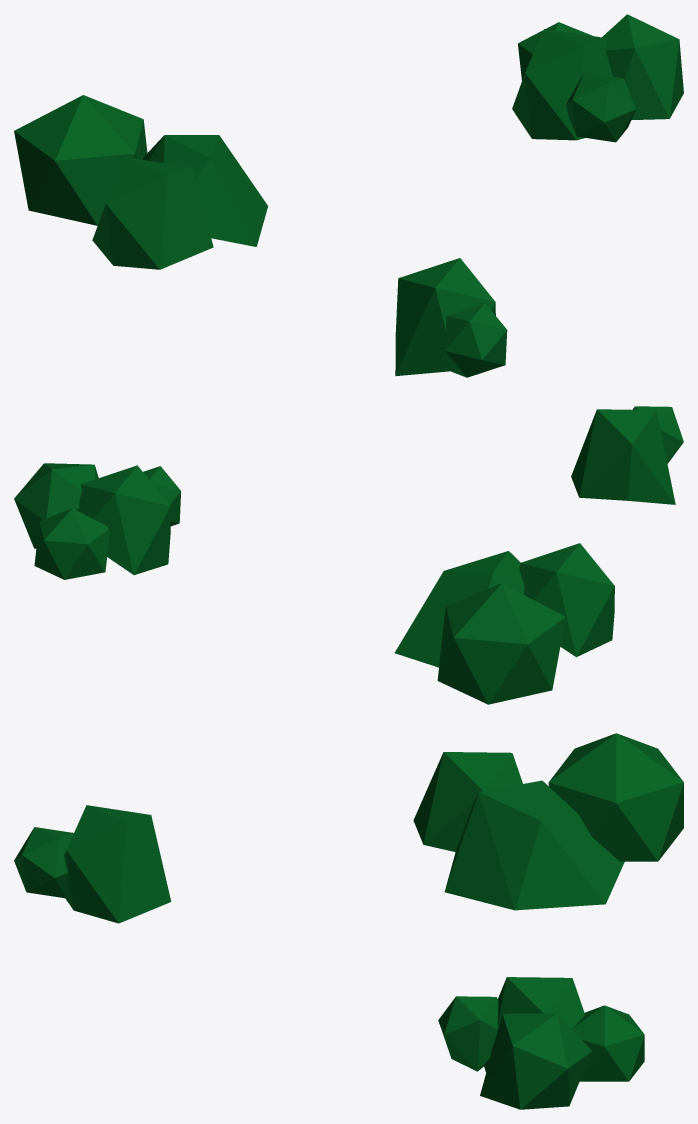
File: garden1.glb
The picture shows the model from 3 angles, top to bottom: view 1: azimuth 30°, elevation 25°; view 2: azimuth 150°, elevation 25°; view 3: azimuth 270°, elevation 25°; orthographic projection. The views are drawn at different scales.
Visible parts, largest first — view 1: garden1; view 2: garden1; view 3: garden1.
Boxes of the visible parts, box(x1,y1,x2,y2) form: garden1: box(14, 14, 683, 377); garden1: box(14, 406, 683, 704); garden1: box(14, 733, 683, 1109).
Size of the model in its own units: 11.37 by 2.02 by 10.63.
